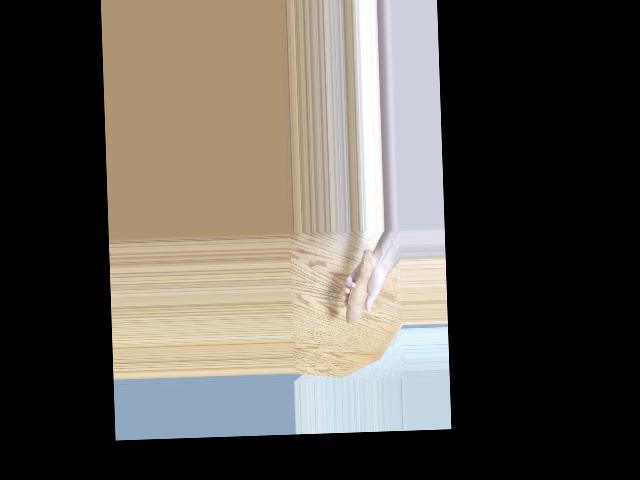sweet_potato: (340, 241, 374, 324)
